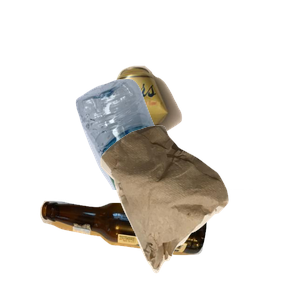glass: (37, 198, 236, 300)
metal: (105, 63, 300, 192)
plastic: (73, 76, 300, 256)
trash: (98, 123, 300, 300)
